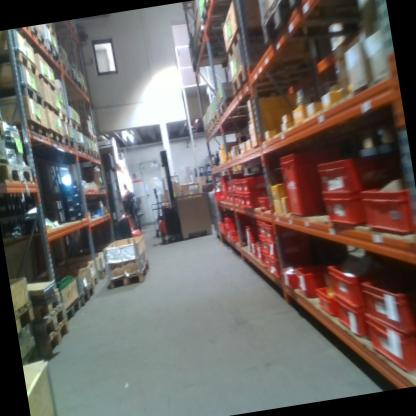pallet: (256, 0, 329, 47), (229, 58, 272, 97), (223, 21, 268, 58), (0, 82, 45, 115), (104, 260, 152, 290), (34, 302, 69, 340), (0, 47, 38, 80), (7, 116, 50, 145), (40, 323, 73, 358), (33, 288, 65, 322), (12, 298, 37, 333), (18, 24, 47, 52), (10, 160, 35, 186), (43, 126, 66, 151), (0, 149, 15, 186), (64, 295, 84, 321), (77, 283, 97, 309), (216, 97, 239, 118), (54, 57, 73, 82), (37, 72, 55, 98), (43, 97, 61, 122), (45, 37, 60, 64), (66, 115, 82, 135), (83, 129, 99, 146), (72, 140, 86, 157), (63, 134, 76, 151), (57, 107, 69, 125), (87, 273, 99, 290), (80, 147, 94, 160), (213, 112, 220, 129), (207, 120, 214, 135), (92, 152, 102, 162)
pallet_truck: (99, 142, 145, 242), (144, 148, 183, 243)
small_load_carrier: (313, 141, 397, 198), (360, 269, 416, 344), (278, 148, 332, 218), (324, 251, 381, 315), (368, 306, 416, 377), (361, 182, 415, 239), (318, 184, 368, 233), (268, 247, 326, 282), (292, 259, 336, 299), (331, 295, 368, 340), (263, 215, 308, 248), (266, 232, 314, 260), (314, 278, 344, 318), (240, 173, 270, 193), (228, 221, 252, 245), (282, 265, 303, 291), (244, 190, 265, 208), (243, 221, 257, 241), (257, 234, 269, 255), (261, 250, 272, 272), (257, 193, 271, 209), (255, 218, 265, 236), (255, 242, 263, 262), (240, 192, 249, 209), (249, 243, 258, 259), (237, 179, 245, 196), (236, 193, 243, 207), (234, 179, 240, 195), (233, 194, 239, 207)
stillage: (206, 190, 221, 242)
